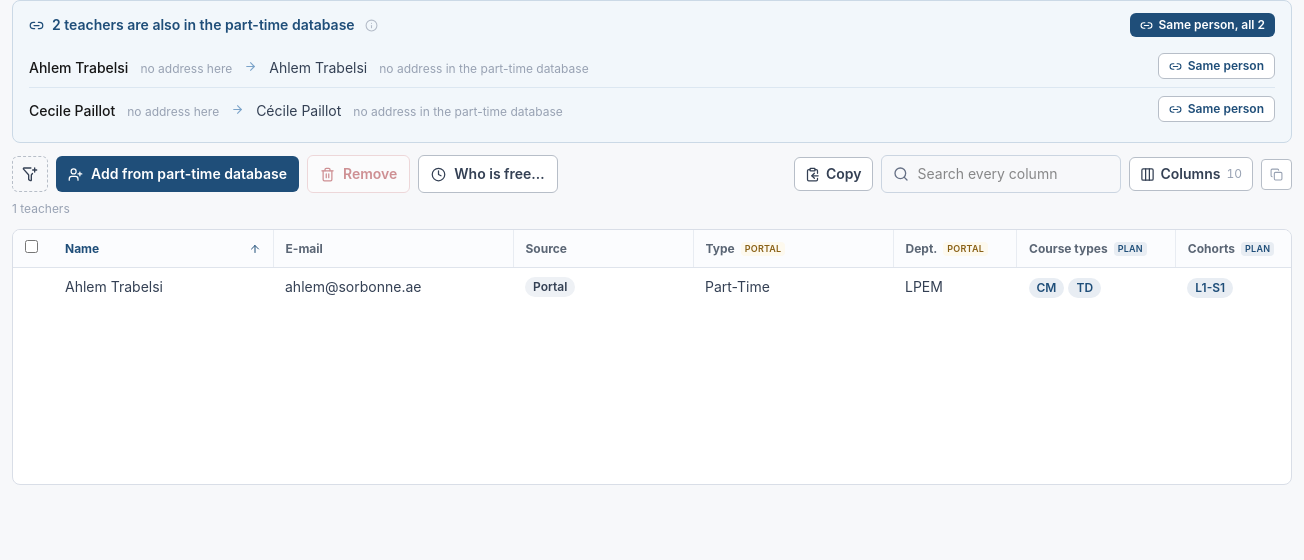
Test case: somebody the part-time database has held all along › keeps the joins it managed when one of them fails
The width and height of the screenshot is (1304, 560).
Click the button "Same person, all 2": coordinates (1202, 25) [1130,13,1275,37]
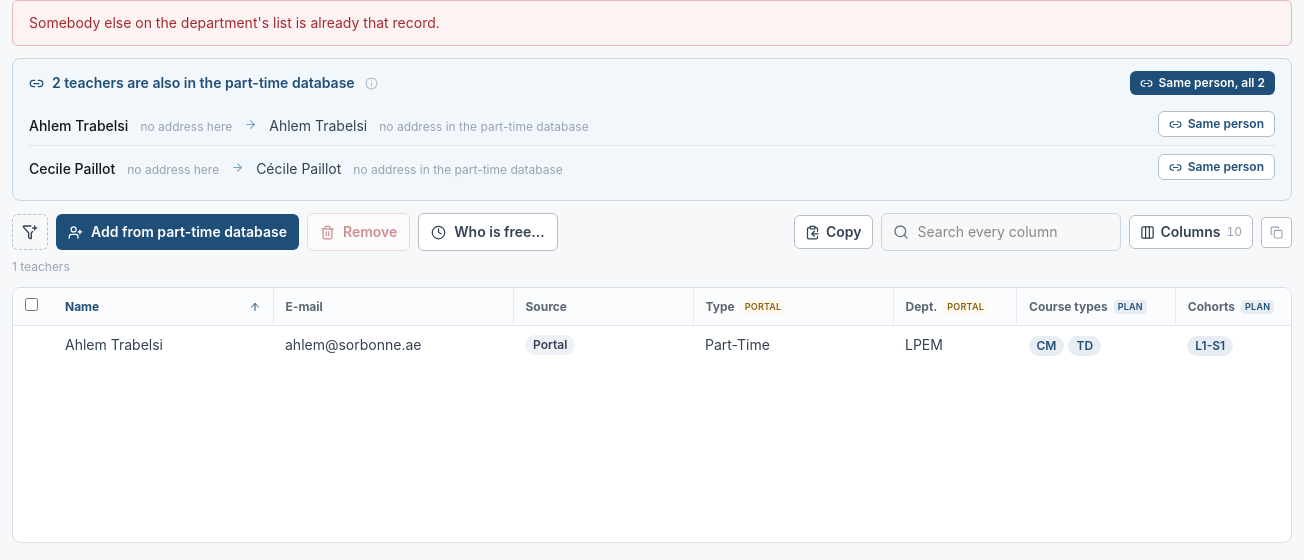
Now the message "Somebody else on the department's list is already that record." is shown, box [12,0,1292,46]
